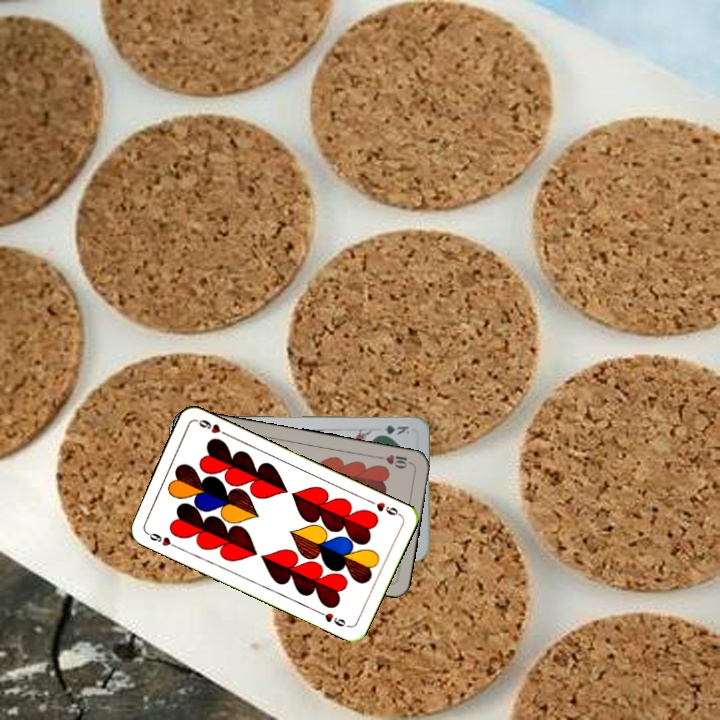GK: (373, 421, 412, 438)
H10: (374, 451, 414, 471)
H9: (142, 528, 180, 551), (365, 496, 403, 518)
